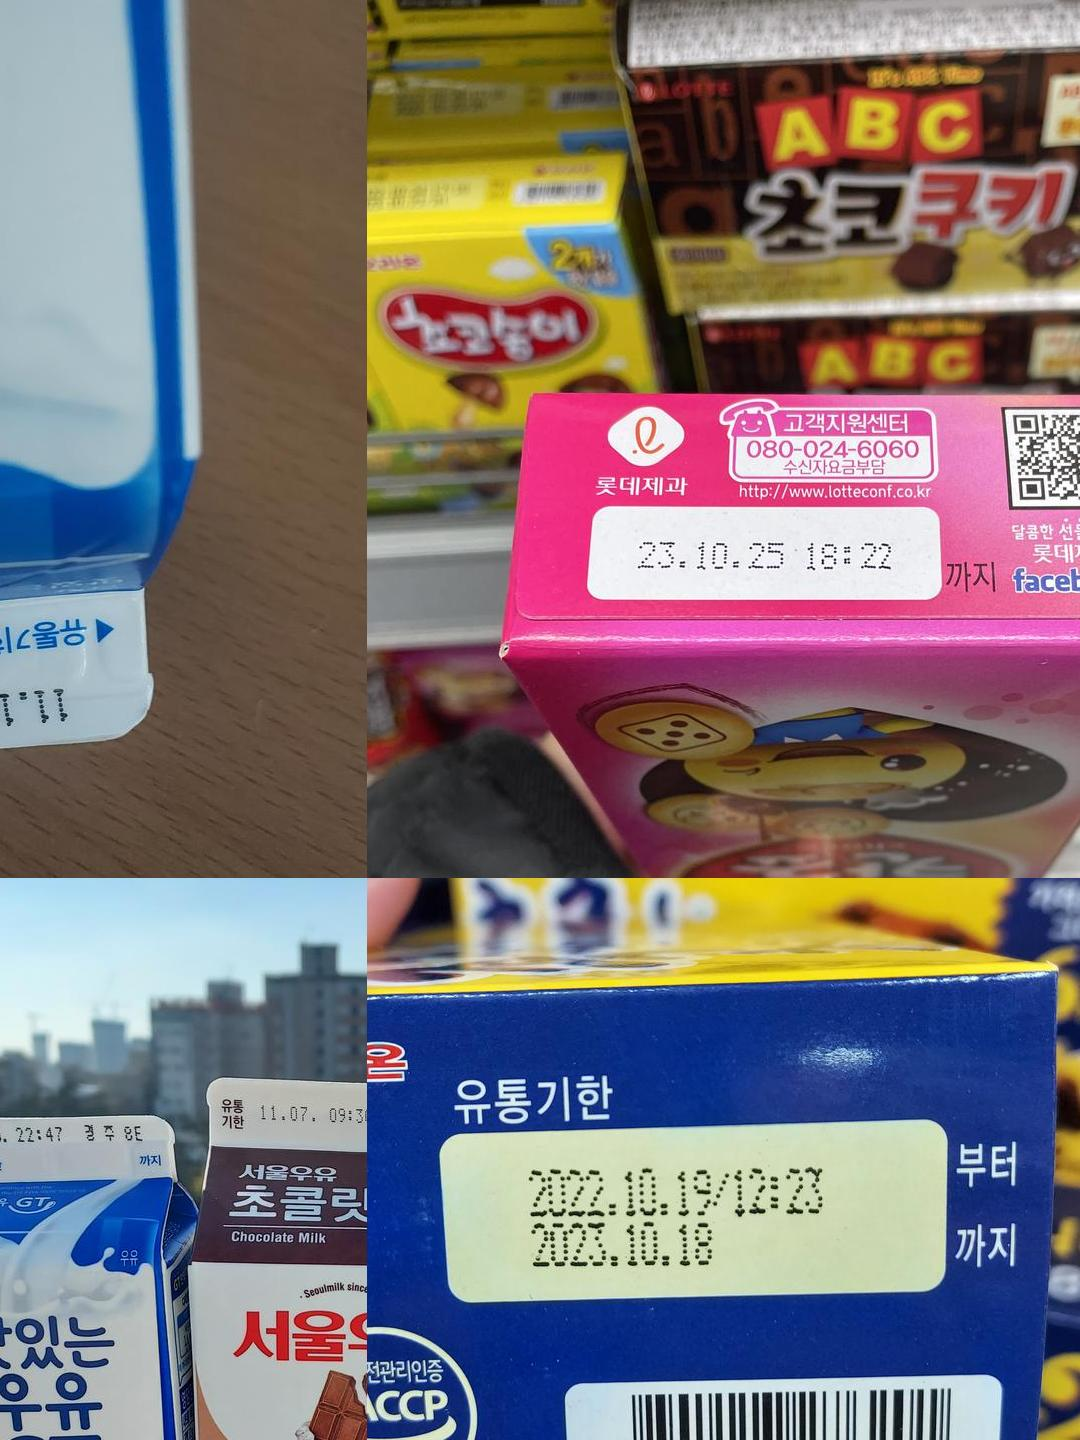milk: (0, 586, 302, 772), (209, 1073, 368, 1150), (0, 1113, 174, 1179)
snack food: (444, 1130, 942, 1291), (599, 511, 933, 605)
